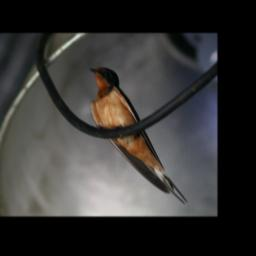Swallow: (85, 63, 192, 205)
